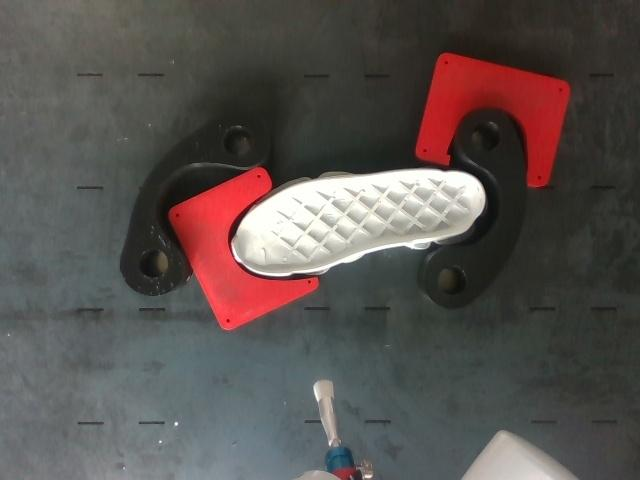shoes: (232, 170, 485, 273)
